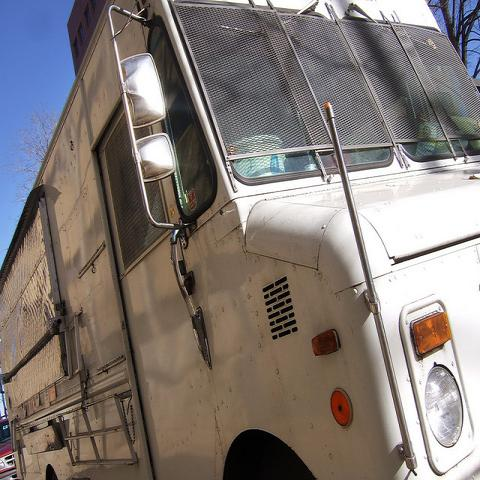car: (0, 417, 20, 479)
truck: (2, 0, 480, 475)
